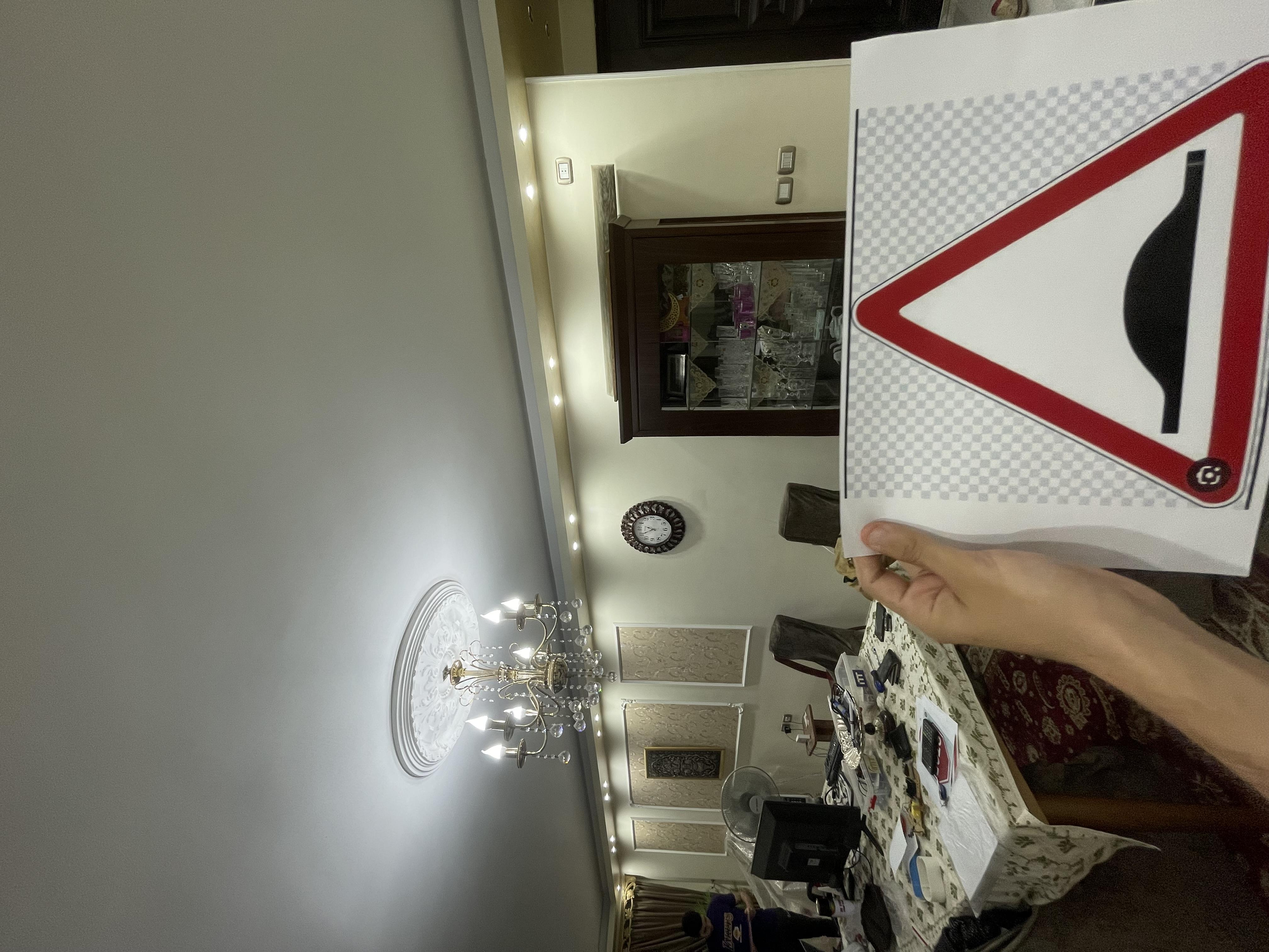Hump: (583, 645, 1184, 950)
